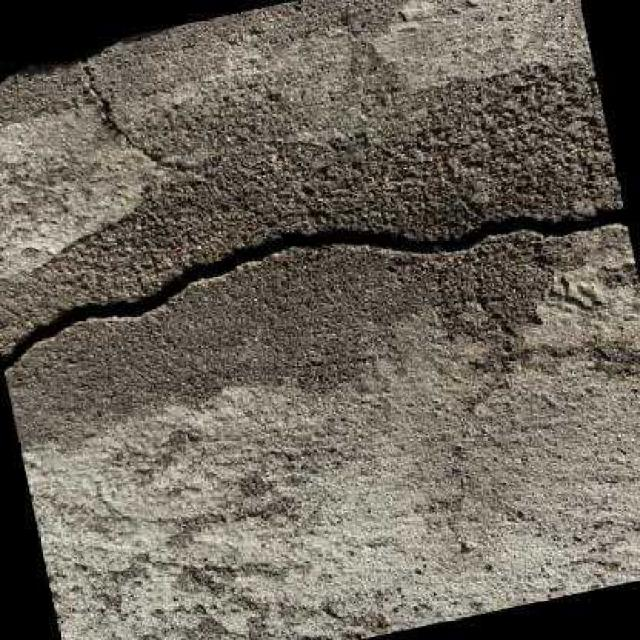D00: (0, 204, 627, 371), (0, 32, 189, 170)
